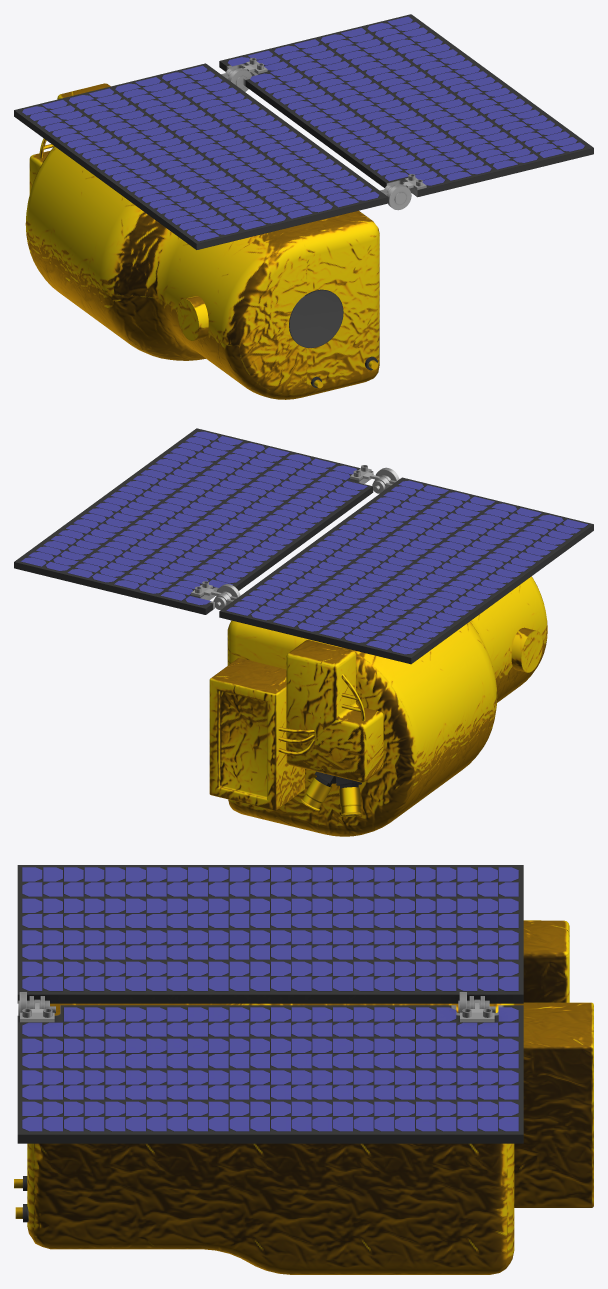
3 renders of one model, top to bottom at view 1: azimuth 30°, elevation 25°; view 2: azimuth 150°, elevation 25°; view 3: azimuth 270°, elevation 25°, orthographic. The views are drawn at different scales.
Parts seen in each view (by area): view 1: Cylinder.018, Plane, Plane.001, Cube.028, Cube.030, Cylinder.023, Cylinder.024, Cylinder.019; view 2: Plane, Cylinder.018, Plane.001, Cube.028, Cube.030, Cylinder.028, Cylinder.019, Cylinder.029, Cylinder.024; view 3: Cylinder.018, Plane, Plane.001, Cube.030, Cube.028, Cylinder.028, Cylinder.019.
Boxes of the visible parts, x1,y1,x2,y2 form: Cylinder.018: [25, 146, 379, 399]; Plane: [22, 65, 379, 241]; Plane.001: [228, 16, 584, 185]; Cube.028: [14, 63, 388, 249]; Cube.030: [219, 14, 593, 197]; Cylinder.023: [289, 289, 343, 348]; Cylinder.024: [177, 296, 208, 340]; Cylinder.019: [29, 83, 110, 193]; Plane: [226, 480, 587, 654]; Cylinder.018: [227, 576, 547, 836]; Plane.001: [21, 431, 367, 605]; Cube.028: [219, 477, 593, 664]; Cube.030: [14, 428, 373, 614]; Cylinder.028: [209, 658, 304, 810]; Cylinder.019: [286, 640, 383, 782]; Cylinder.029: [300, 771, 361, 816]; Cylinder.024: [511, 627, 542, 672]; Cylinder.018: [27, 1003, 514, 1274]; Plane: [22, 867, 518, 990]; Plane.001: [22, 1007, 518, 1131]; Cube.030: [17, 1005, 523, 1143]; Cube.028: [17, 865, 523, 1003]; Cylinder.028: [514, 1002, 593, 1207]; Cylinder.019: [523, 920, 569, 1002].
Bounding box in the file's own units: 2.67 × 1.37 × 2.44.
2 materials, 2 textured.
